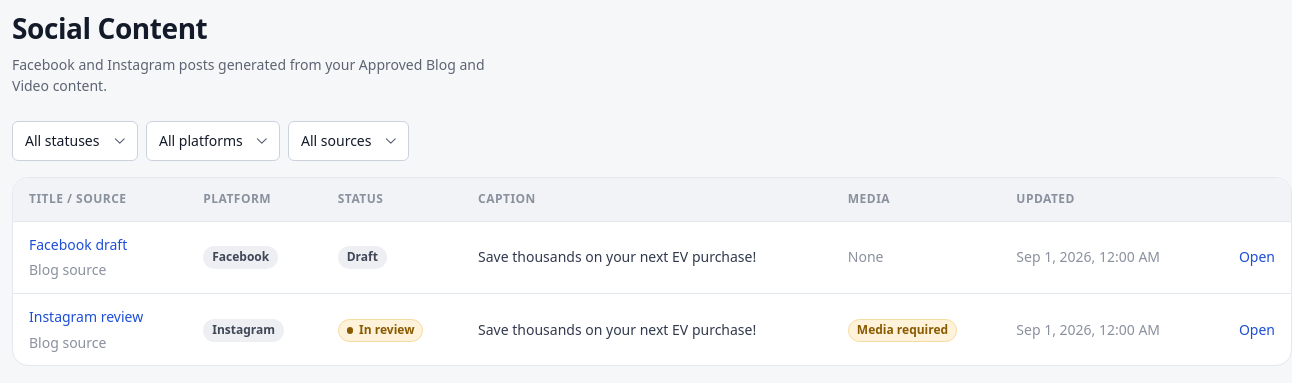
Scenario: SocialList › filters by platform and by status
Expected: the link "Facebook draft" is shown, x1=29 y1=235 x2=127 y2=254
Select "Instagram" in the dropdown named "Filter by platform" at point(213, 141), box x1=146 y1=121 x2=280 y2=161
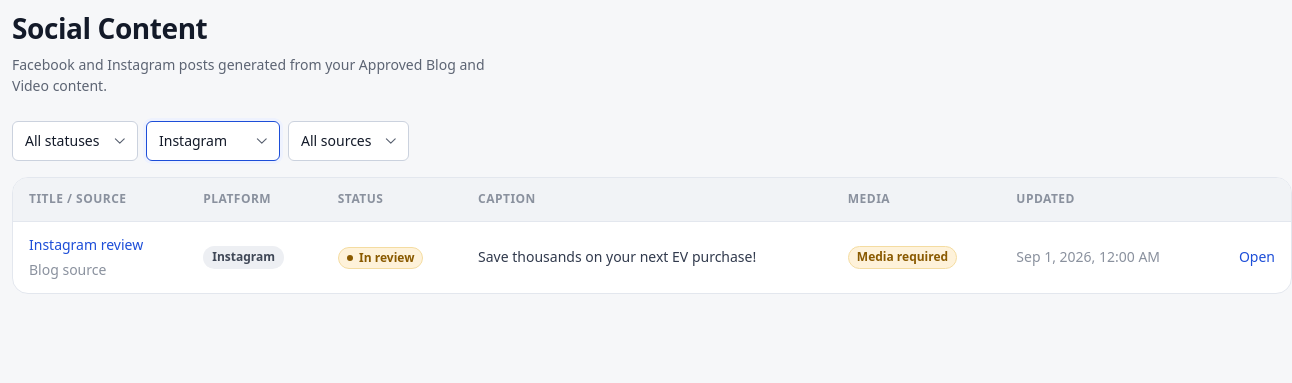
Expected: the link "Instagram review" is shown, x1=29 y1=235 x2=143 y2=254
Now the link "Facebook draft" is gone
Select "All platforms" in the dropdown named "Filter by platform" at point(213, 141), box x1=146 y1=121 x2=280 y2=161
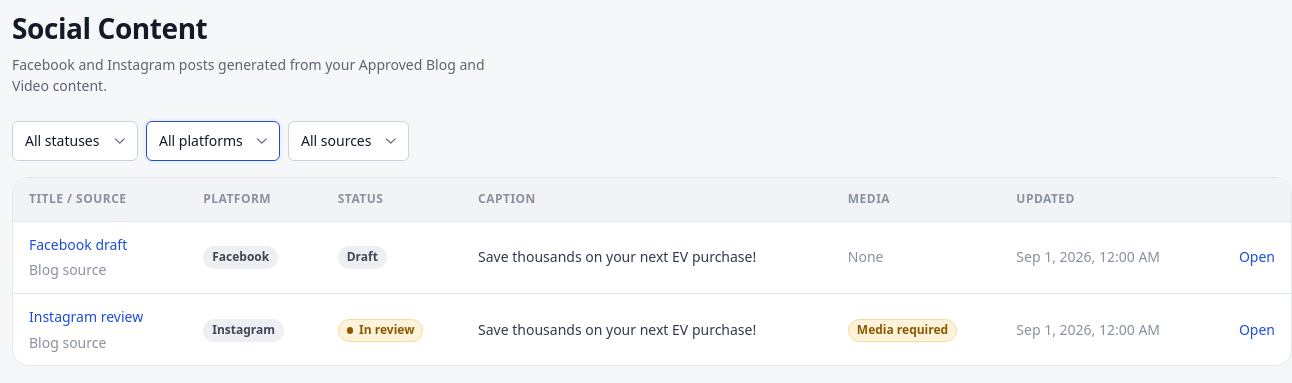
Select "Draft" in the dropdown named "Filter by status" at point(75, 141), box x1=12 y1=121 x2=138 y2=161
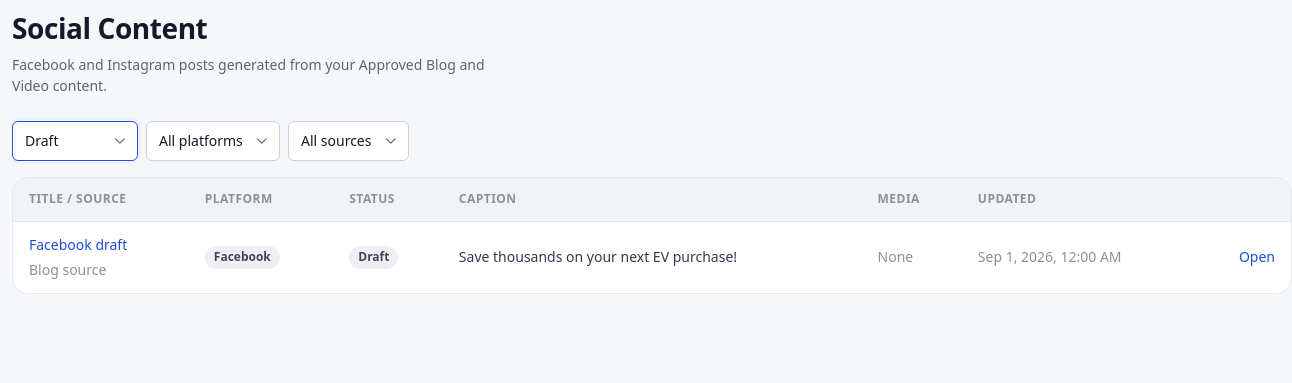
Now the link "Facebook draft" is shown, box x1=29 y1=235 x2=127 y2=254
Now the link "Instagram review" is gone
